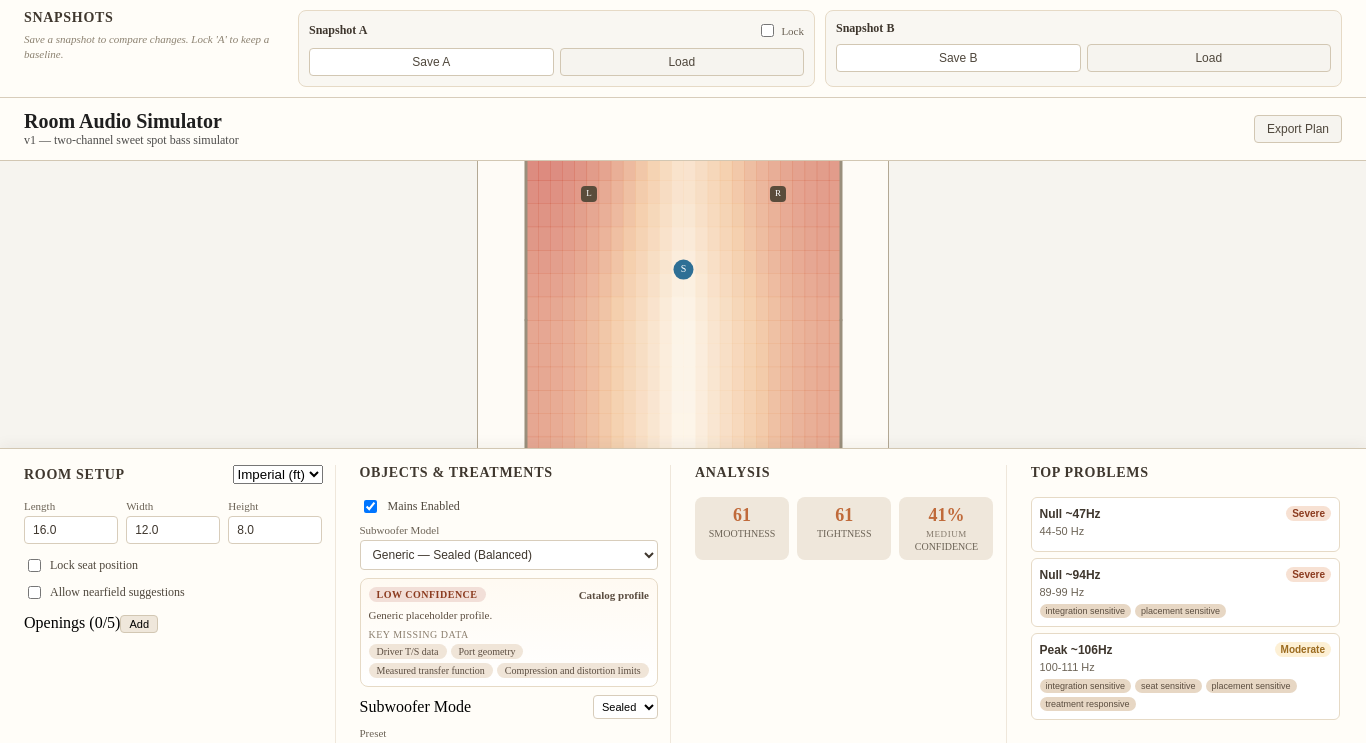
it: App subwoofer mode switching › applies Speedwoofer defaults and renders high-confidence bounds
This screenshot has width=1366, height=743.
Select "RSL — Speedwoofer 10S MKII" in the dropdown labelled "Subwoofer Model" at (509, 555), box [360,540,658,570]
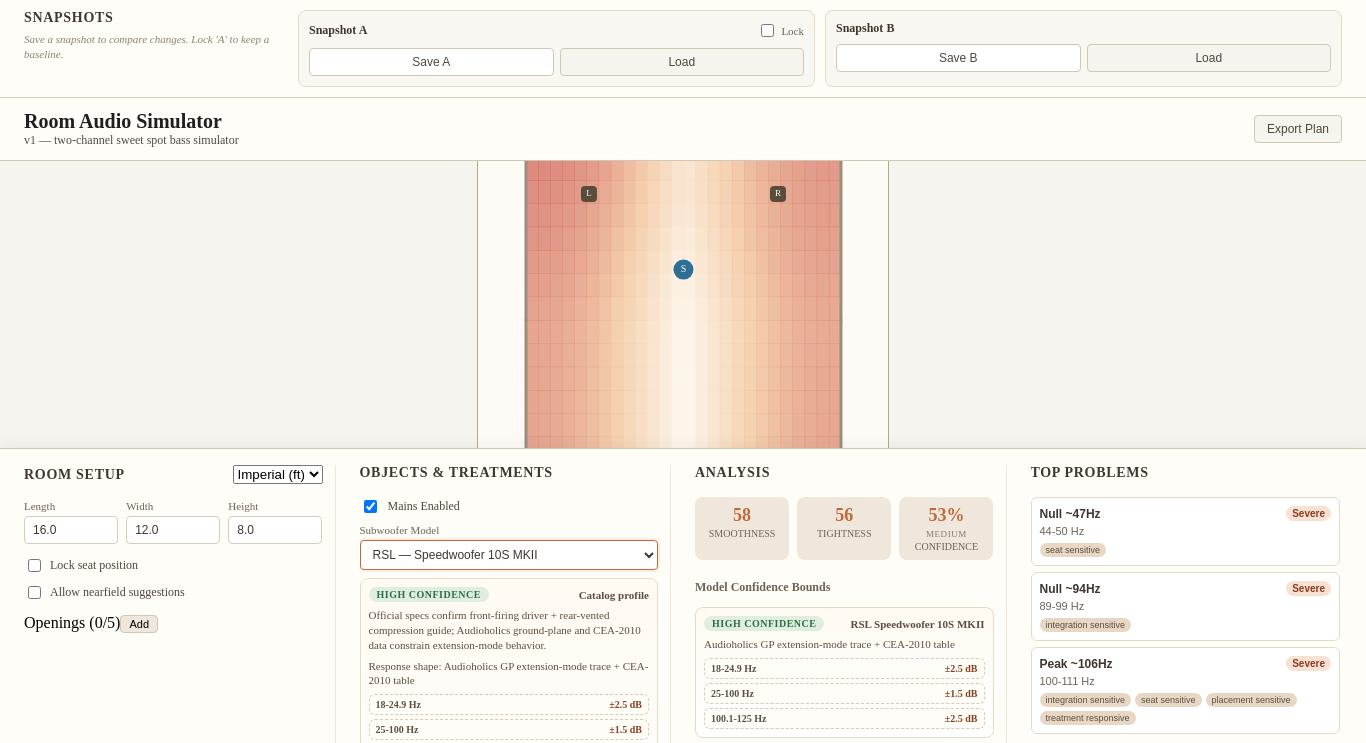
Result: the text "High Confidence" next to "Catalog profile" is shown at [376,589,481,600]
Result: the text "Audioholics GP extension-mode trace" is shown at [368,660,648,686]
Result: the text "25-100 Hz" below "Response shape:" is shown at [376,724,419,735]
